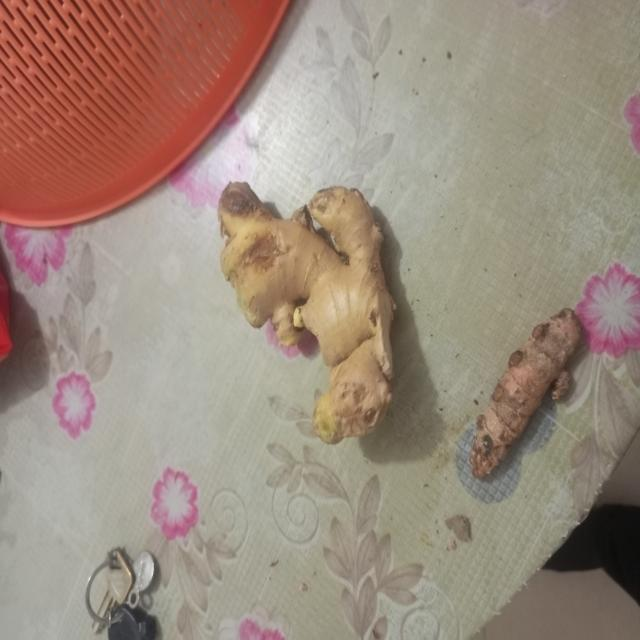ginger: (224, 185, 394, 440), (472, 310, 576, 470)
